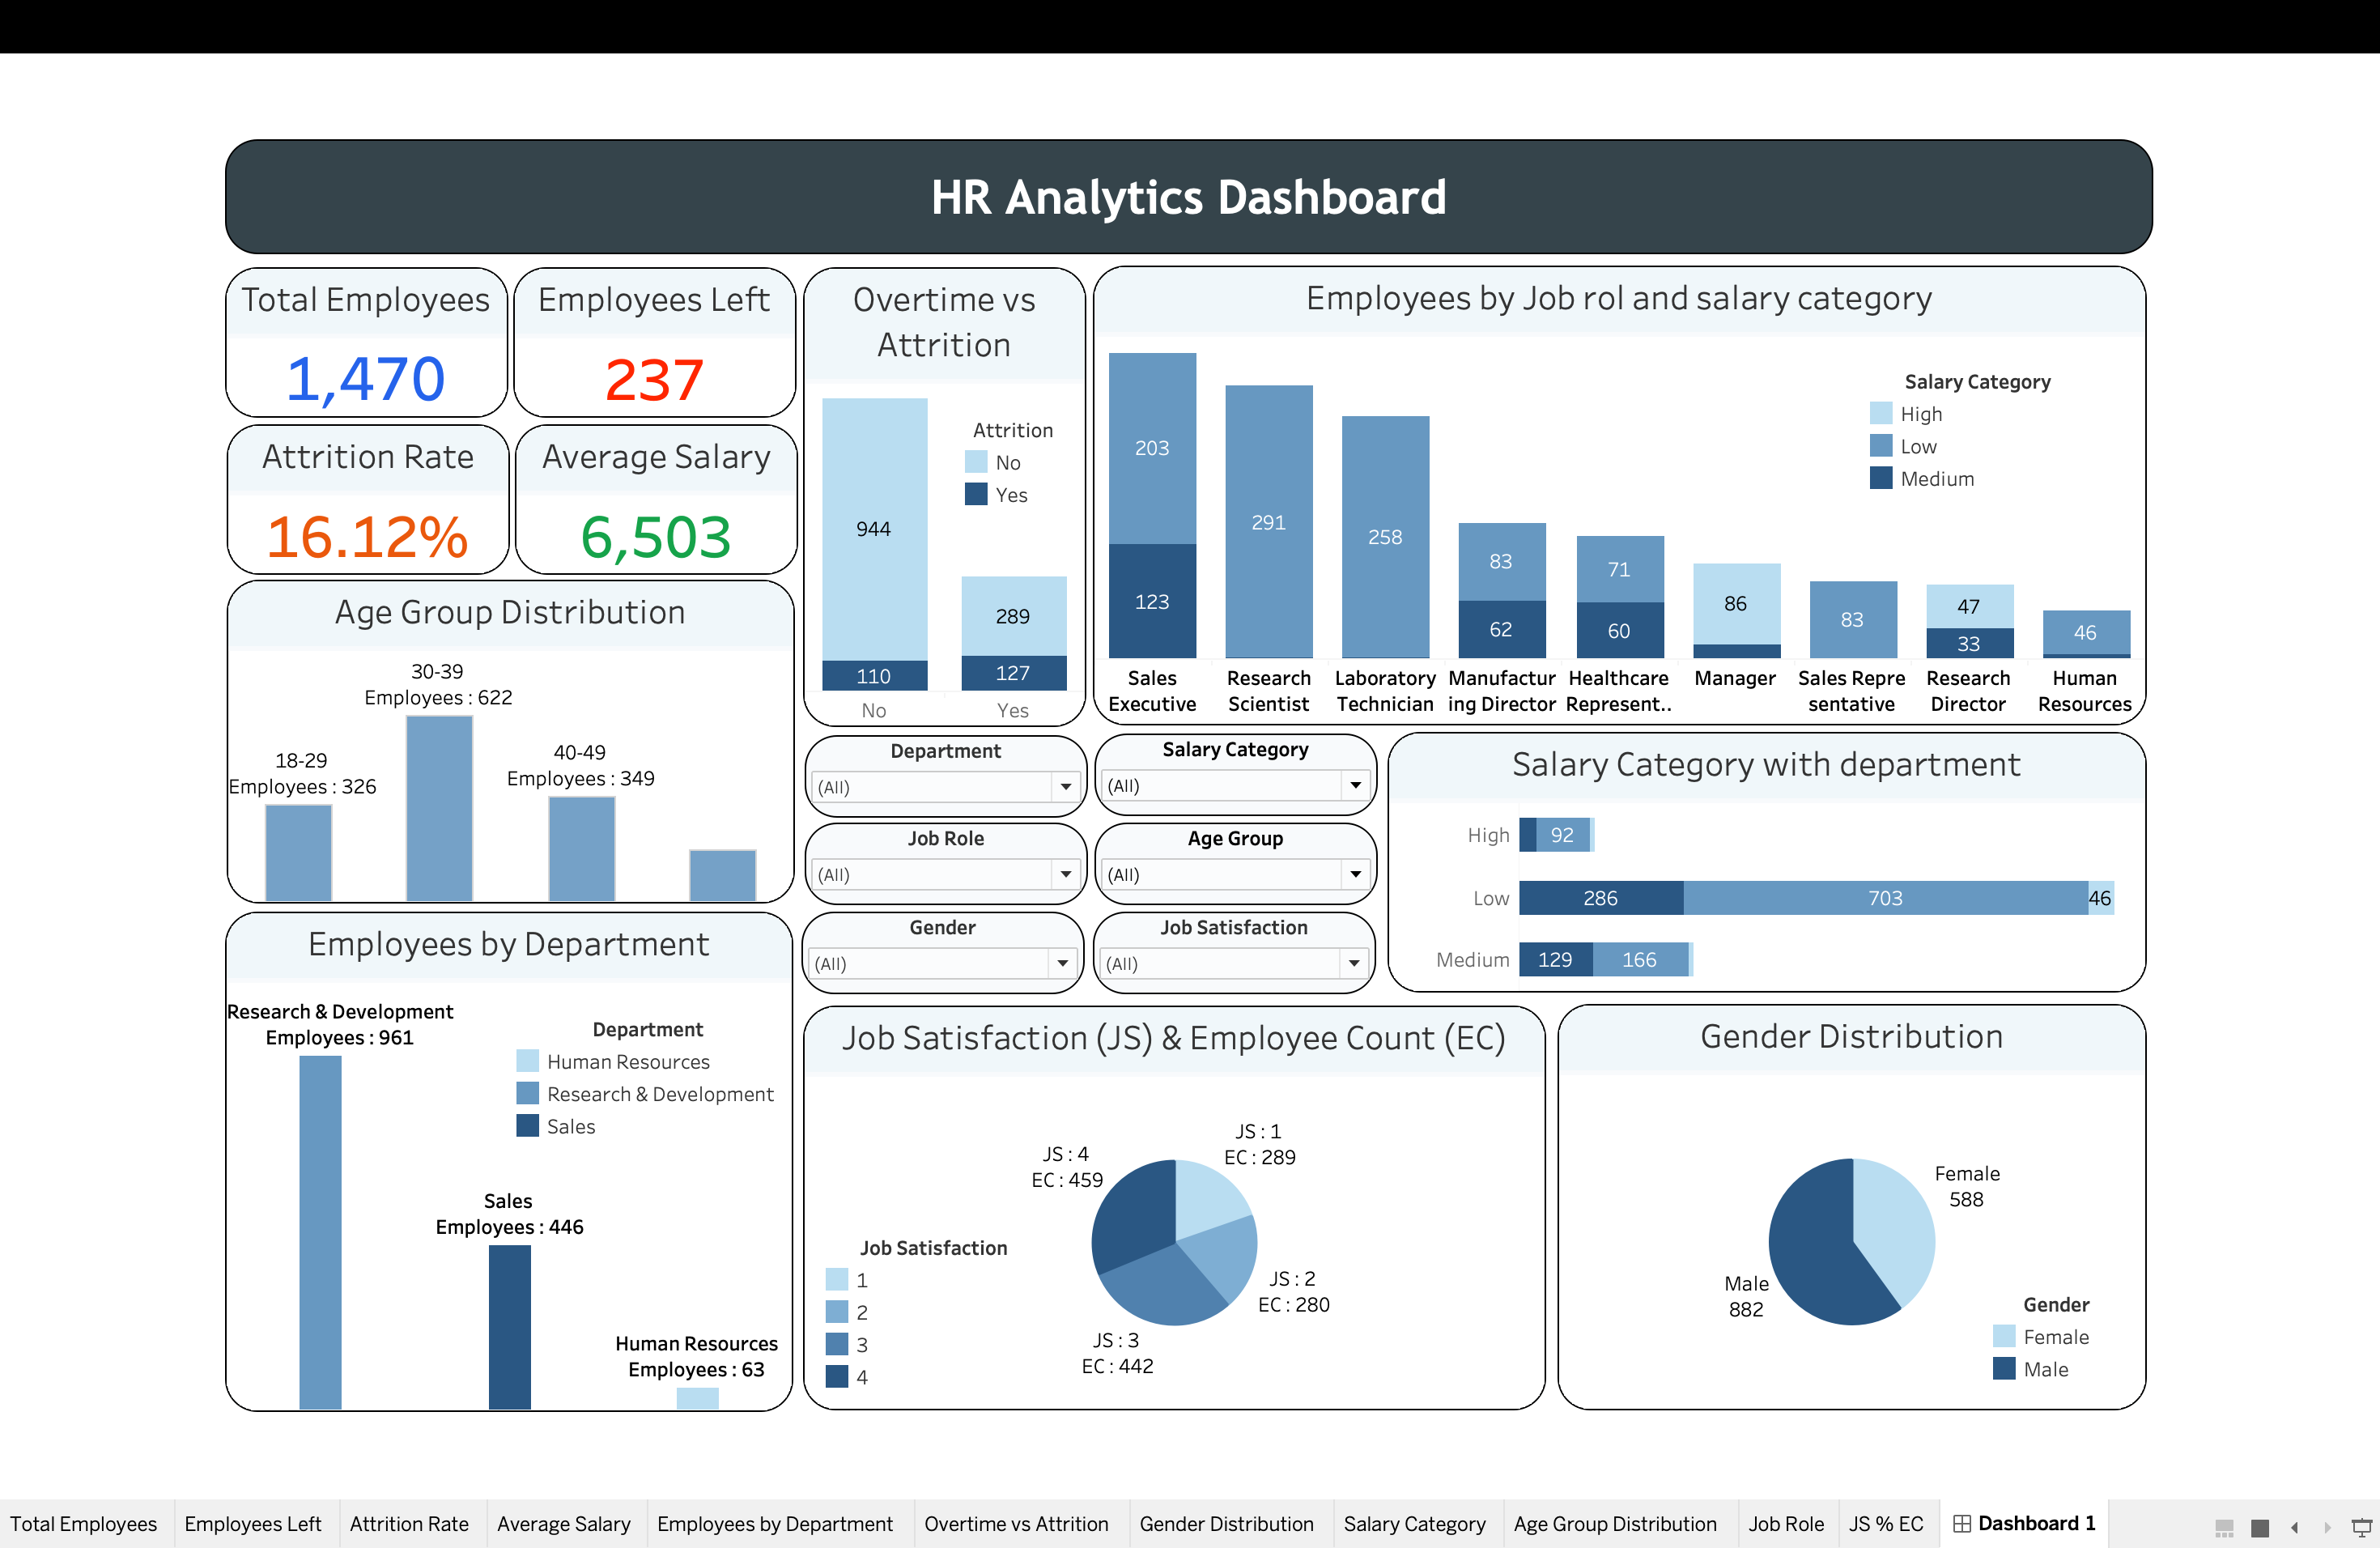

The dashboard page shown, as its layout file describes it:
{"tool":"tableau","page":{"name":"Dashboard 1","canvas":[1200,800],"ordinal":0},"visuals":[{"type":"text","box":[4,7,1191,71]},{"type":"worksheet","title":"Job Role","mark":"Automatic","rows":["EmployeeNumber"],"cols":["JobRole"],"box":[540,85,651,284]},{"type":"worksheet","title":"Total Employees","mark":"Automatic","box":[4,86,175,93]},{"type":"worksheet","title":"Employees Left","mark":"Automatic","box":[182,86,175,93]},{"type":"worksheet","title":"Overtime vs Attrition","mark":"Automatic","cols":["OverTime"],"box":[361,86,175,284]},{"type":"legend","title":"Job Role","param":"[federated.0eisggo0r1hdwp172ihms1edjboi].[none:SalaryCategory:nk]","box":[1017,148,140,78]},{"type":"worksheet","title":"Attrition Rate","mark":"Automatic","box":[5,183,175,93]},{"type":"worksheet","title":"Average Salary","mark":"Automatic","box":[183,183,175,93]},{"type":"worksheet","title":"Age Group Distribution","mark":"Automatic","rows":["EmployeeNumber"],"cols":["AgeGroup"],"box":[5,279,351,200]},{"type":"worksheet","title":"Salary Category","mark":"Automatic","rows":["SalaryCategory"],"cols":["EmployeeNumber"],"box":[722,373,469,161]},{"type":"filter","title":"Age Group Distribution","param":"[federated.0eisggo0r1hdwp172ihms1edjboi].[none:SalaryCategory:nk]","box":[541,374,175,51]},{"type":"filter","title":"Employees by Department","param":"[federated.0eisggo0r1hdwp172ihms1edjboi].[none:Department:nk]","box":[362,375,175,51]},{"type":"filter","title":"Job Role","param":"[federated.0eisggo0r1hdwp172ihms1edjboi].[none:JobRole:nk]","box":[362,429,175,51]},{"type":"filter","title":"Age Group Distribution","param":"[federated.0eisggo0r1hdwp172ihms1edjboi].[none:AgeGroup:nk]","box":[541,429,175,51]},{"type":"worksheet","title":"Employees by Department","mark":"Automatic","rows":["EmployeeNumber"],"cols":["Department"],"box":[4,484,351,309]},{"type":"filter","title":"Gender Distribution","param":"[federated.0eisggo0r1hdwp172ihms1edjboi].[none:Gender:nk]","box":[360,484,175,51]},{"type":"filter","title":"JS % EC","param":"[federated.0eisggo0r1hdwp172ihms1edjboi].[none:JobSatisfaction:ok]","box":[540,484,175,51]},{"type":"worksheet","title":"Gender Distribution","mark":"Pie","box":[827,541,364,251]},{"type":"worksheet","title":"JS % EC","mark":"Automatic","rows":["JobSatisfaction"],"cols":["EmployeeNumber"],"box":[361,542,459,250]}]}

Visuals, with their boxes on the page's 1200x800 design canvas (x1, y1, x2, y2). These are canvas units, not pixel positions in the 2380x1548 screenshot, which may show the page scaled, cropped or inside an application window:
text: bbox=(4, 7, 1195, 78)
"Job Role" worksheet: bbox=(540, 85, 1191, 369)
"Total Employees" worksheet: bbox=(4, 86, 179, 179)
"Employees Left" worksheet: bbox=(182, 86, 357, 179)
"Overtime vs Attrition" worksheet: bbox=(361, 86, 536, 370)
"Job Role" legend: bbox=(1017, 148, 1157, 226)
"Attrition Rate" worksheet: bbox=(5, 183, 180, 276)
"Average Salary" worksheet: bbox=(183, 183, 358, 276)
"Age Group Distribution" worksheet: bbox=(5, 279, 356, 479)
"Salary Category" worksheet: bbox=(722, 373, 1191, 534)
"Age Group Distribution" filter: bbox=(541, 374, 716, 425)
"Employees by Department" filter: bbox=(362, 375, 537, 426)
"Job Role" filter: bbox=(362, 429, 537, 480)
"Age Group Distribution" filter: bbox=(541, 429, 716, 480)
"Employees by Department" worksheet: bbox=(4, 484, 355, 793)
"Gender Distribution" filter: bbox=(360, 484, 535, 535)
"JS % EC" filter: bbox=(540, 484, 715, 535)
"Gender Distribution" worksheet (Pie marks): bbox=(827, 541, 1191, 792)
"JS % EC" worksheet: bbox=(361, 542, 820, 792)
